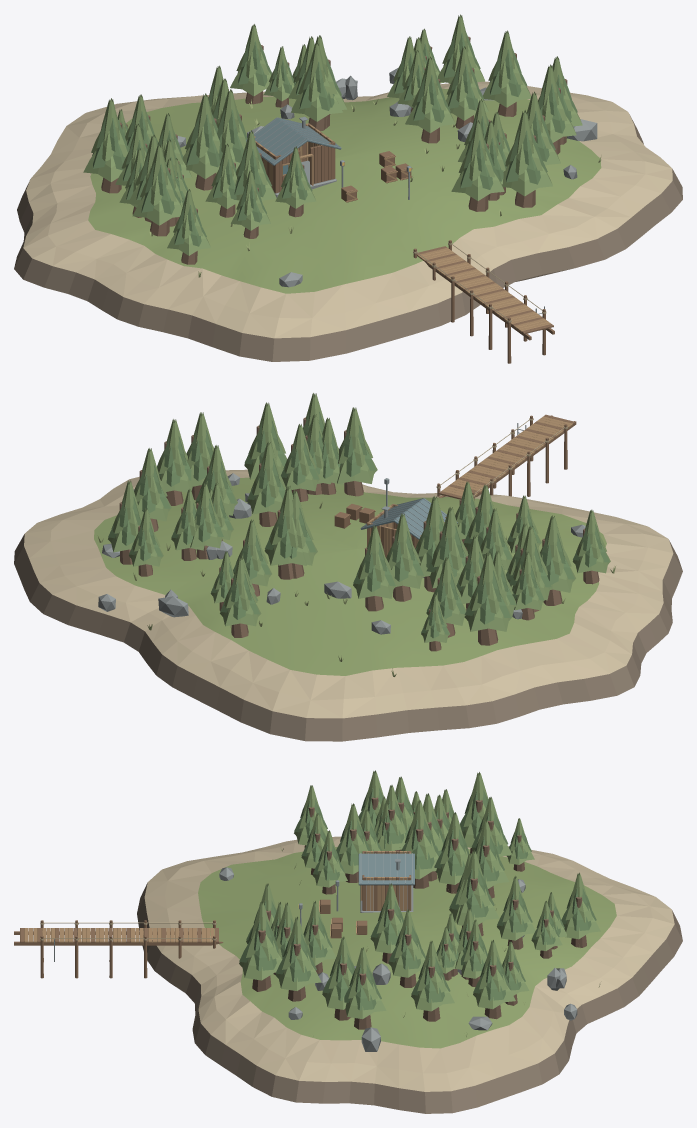
The model's file is Island_Harbour_Original.fbx.
3 renders of one model, top to bottom at view 1: azimuth 30°, elevation 25°; view 2: azimuth 150°, elevation 25°; view 3: azimuth 270°, elevation 25°, orthographic. The views are drawn at different scales.
Parts seen in each view (by area): view 1: Terrain_Harbour, VegetationAndRocks, FishingDock, HarbourCabin, HarbourProps; view 2: Terrain_Harbour, VegetationAndRocks, FishingDock, HarbourCabin, HarbourProps; view 3: Terrain_Harbour, VegetationAndRocks, FishingDock, HarbourCabin, HarbourProps.
Boxes of the visible parts, left/top/right/bottom form: Terrain_Harbour: left=14, top=81, right=682, bottom=361; VegetationAndRocks: left=83, top=14, right=601, bottom=287; FishingDock: left=413, top=240, right=554, bottom=363; HarbourCabin: left=246, top=116, right=341, bottom=197; HarbourProps: left=340, top=151, right=412, bottom=202; Terrain_Harbour: left=14, top=469, right=682, bottom=741; VegetationAndRocks: left=98, top=393, right=615, bottom=676; FishingDock: left=436, top=414, right=576, bottom=500; HarbourCabin: left=360, top=498, right=457, bottom=577; HarbourProps: left=334, top=478, right=389, bottom=528; Terrain_Harbour: left=137, top=836, right=682, bottom=1113; VegetationAndRocks: left=219, top=770, right=600, bottom=1051; FishingDock: left=14, top=920, right=223, bottom=978; HarbourCabin: left=358, top=851, right=414, bottom=912; HarbourProps: left=298, top=880, right=367, bottom=938.
Size of the model in its own units: 5290 by 1384 by 5437.
